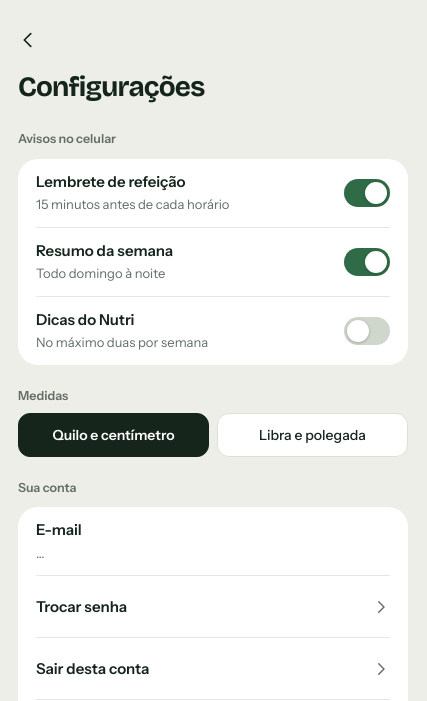
Test case: Configurações (S19) › erro no PUT: o toggle volta e avisa
Click the switch labelled "Dicas do Nutri" at (85, 319), box [36,297,390,365]
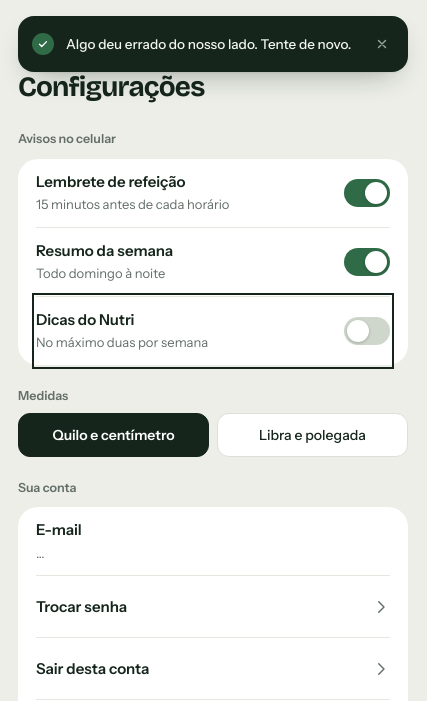
Check: the text "Algo deu errado do nosso lado. Tente de novo." is shown, box [66,34,354,54]
